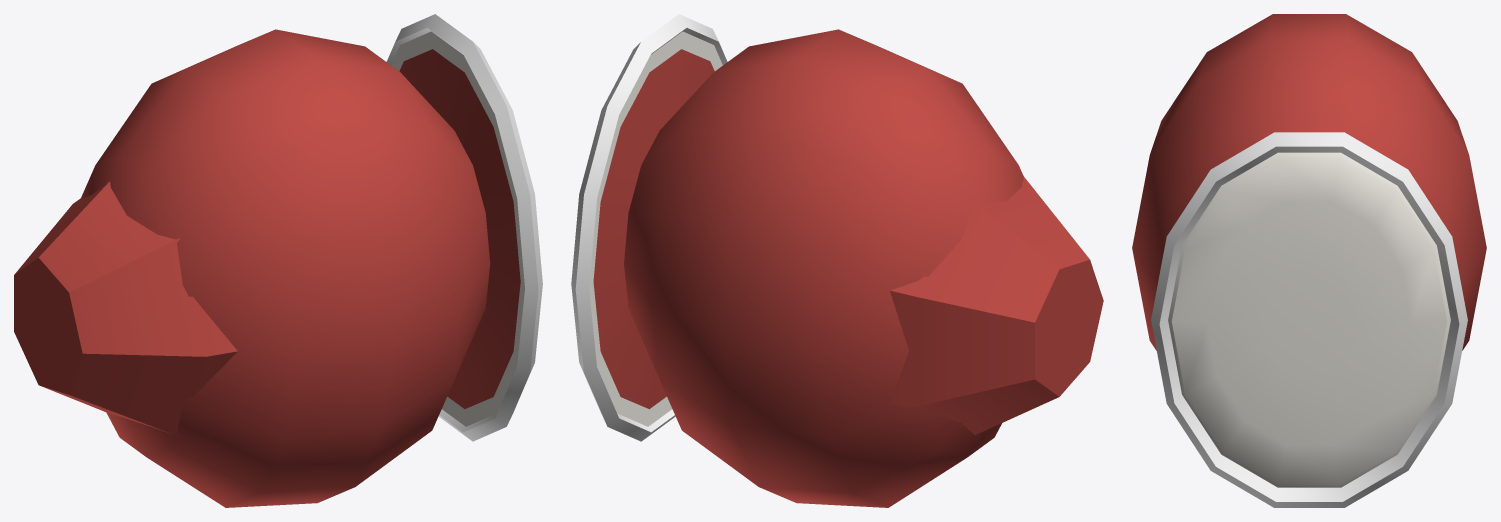
The model's file is bugeye_lod1.glb.
The picture shows the model from 3 angles, left to right: view 1: azimuth 30°, elevation 25°; view 2: azimuth 150°, elevation 25°; view 3: azimuth 270°, elevation 25°; orthographic projection. The views are drawn at different scales.
Visible parts, largest first — view 1: bugeye_lod1; view 2: bugeye_lod1; view 3: bugeye_lod1.
Part boxes in pixels (left/top/right/bottom): bugeye_lod1: left=14, top=14, right=542, bottom=507; bugeye_lod1: left=571, top=14, right=1103, bottom=507; bugeye_lod1: left=1132, top=14, right=1486, bottom=507.
Size of the model in its own units: 2.33 by 2.37 by 1.83.
